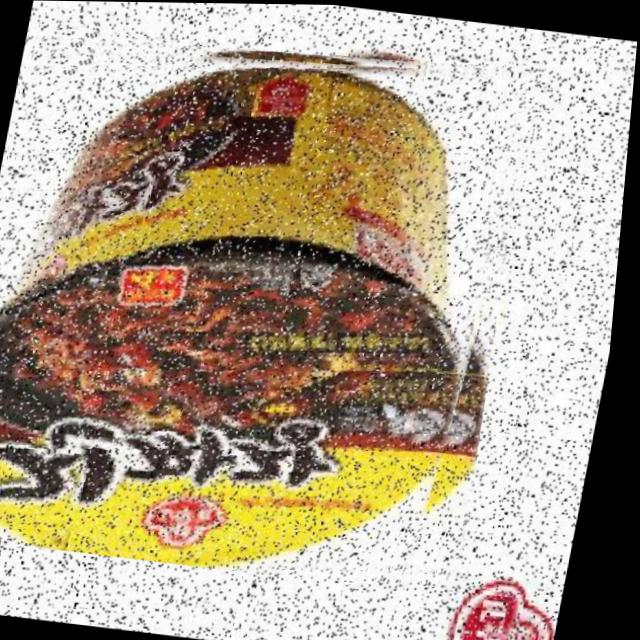Miscellaneous: (0, 13, 553, 595)
